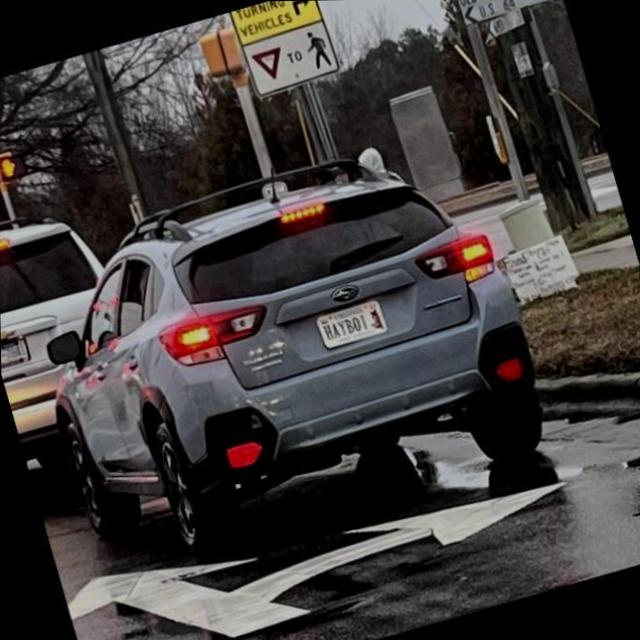LicensePlate: (313, 296, 387, 348)
